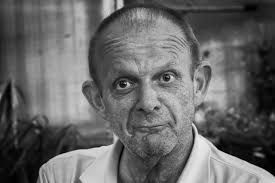no-mask: (75, 17, 218, 160)
